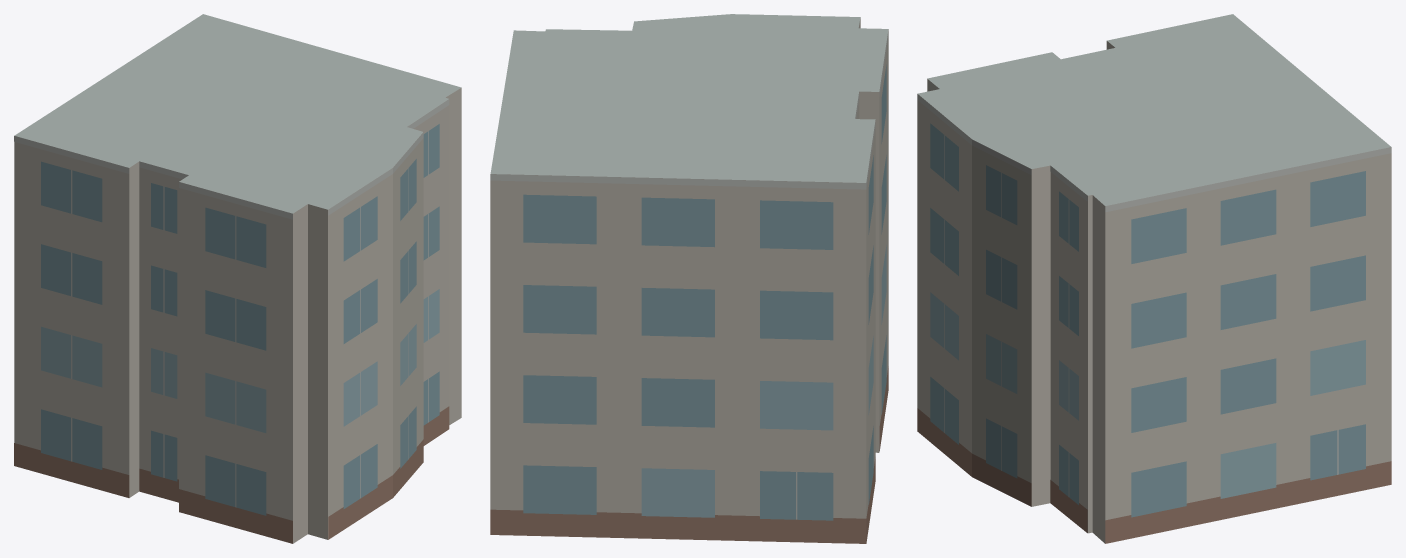
File: survey-upis-32734340.glb
3 renders of one model, left to right at view 1: azimuth 30°, elevation 25°; view 2: azimuth 150°, elevation 25°; view 3: azimuth 270°, elevation 25°, orthographic. The views are drawn at different scales.
Visible parts, largest first — view 1: survey-upis-32734340.tmp; view 2: survey-upis-32734340.tmp; view 3: survey-upis-32734340.tmp.
Boxes of the visible parts, bbox=[...] form: survey-upis-32734340.tmp: bbox=[14, 14, 461, 543]; survey-upis-32734340.tmp: bbox=[490, 14, 888, 543]; survey-upis-32734340.tmp: bbox=[917, 14, 1391, 543].
Size of the model in its own units: 16.3 by 13.35 by 17.
